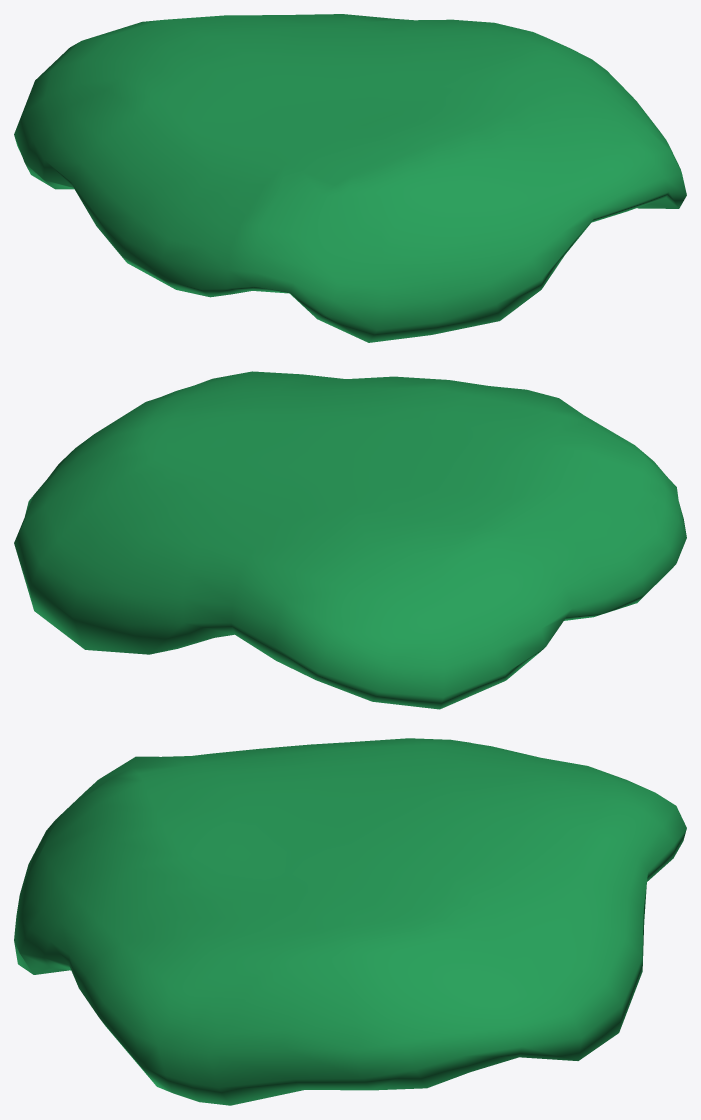
File: snow.fbx
The picture shows the model from 3 angles, top to bottom: view 1: azimuth 30°, elevation 25°; view 2: azimuth 150°, elevation 25°; view 3: azimuth 270°, elevation 25°; orthographic projection. The views are drawn at different scales.
Parts seen in each view (by area): view 1: null1_pCube30; view 2: null1_pCube30; view 3: null1_pCube30.
Part boxes in pixels (x1,y1,x2,y2): null1_pCube30: (14,14,686,342); null1_pCube30: (14,371,686,709); null1_pCube30: (14,738,686,1105).
Bounding box in the file's own units: 2.69 × 0.6533 × 2.68.
